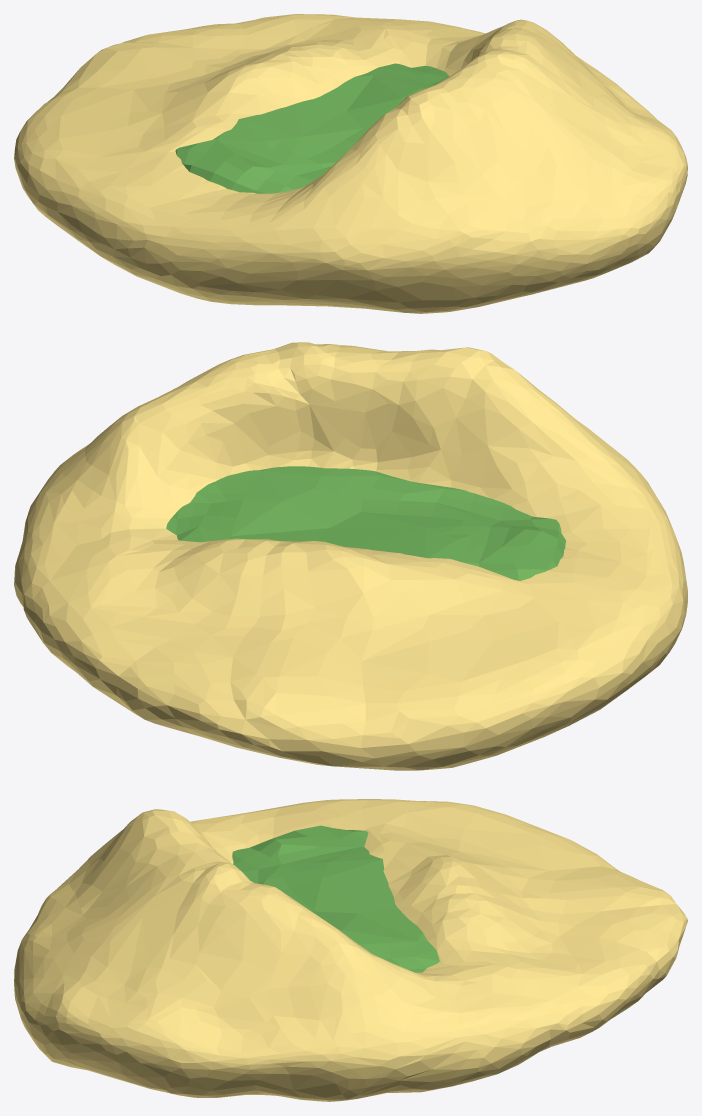
Rendered from Island2.fbx.
3 views of the same model, one above another, from view 1: azimuth 30°, elevation 25°; view 2: azimuth 150°, elevation 25°; view 3: azimuth 270°, elevation 25° (orthographic). The views are drawn at different scales.
Parts seen in each view (by area): view 1: Island; view 2: Island; view 3: Island.
Part boxes in pixels (x1,y1,x2,y2): Island: (14,14,687,313); Island: (14,342,687,770); Island: (14,799,687,1101).
Size of the model in its own units: 5185 by 1901 by 5566.
